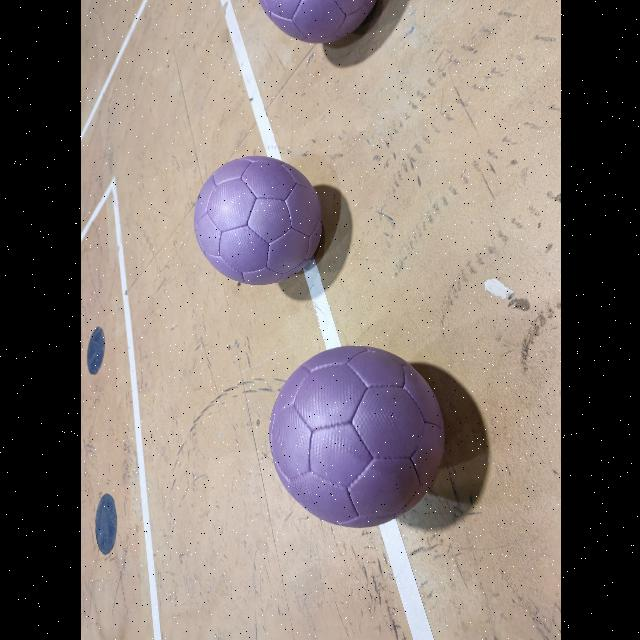P: (268, 347, 444, 528), (193, 157, 321, 285), (257, 1, 373, 44)
